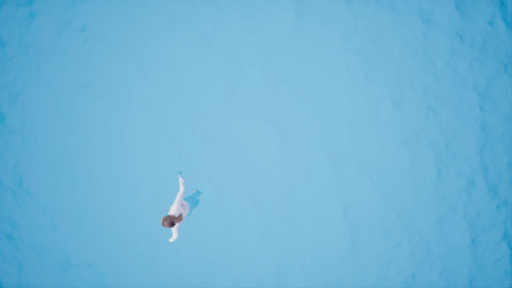person: (154, 168, 209, 237)
